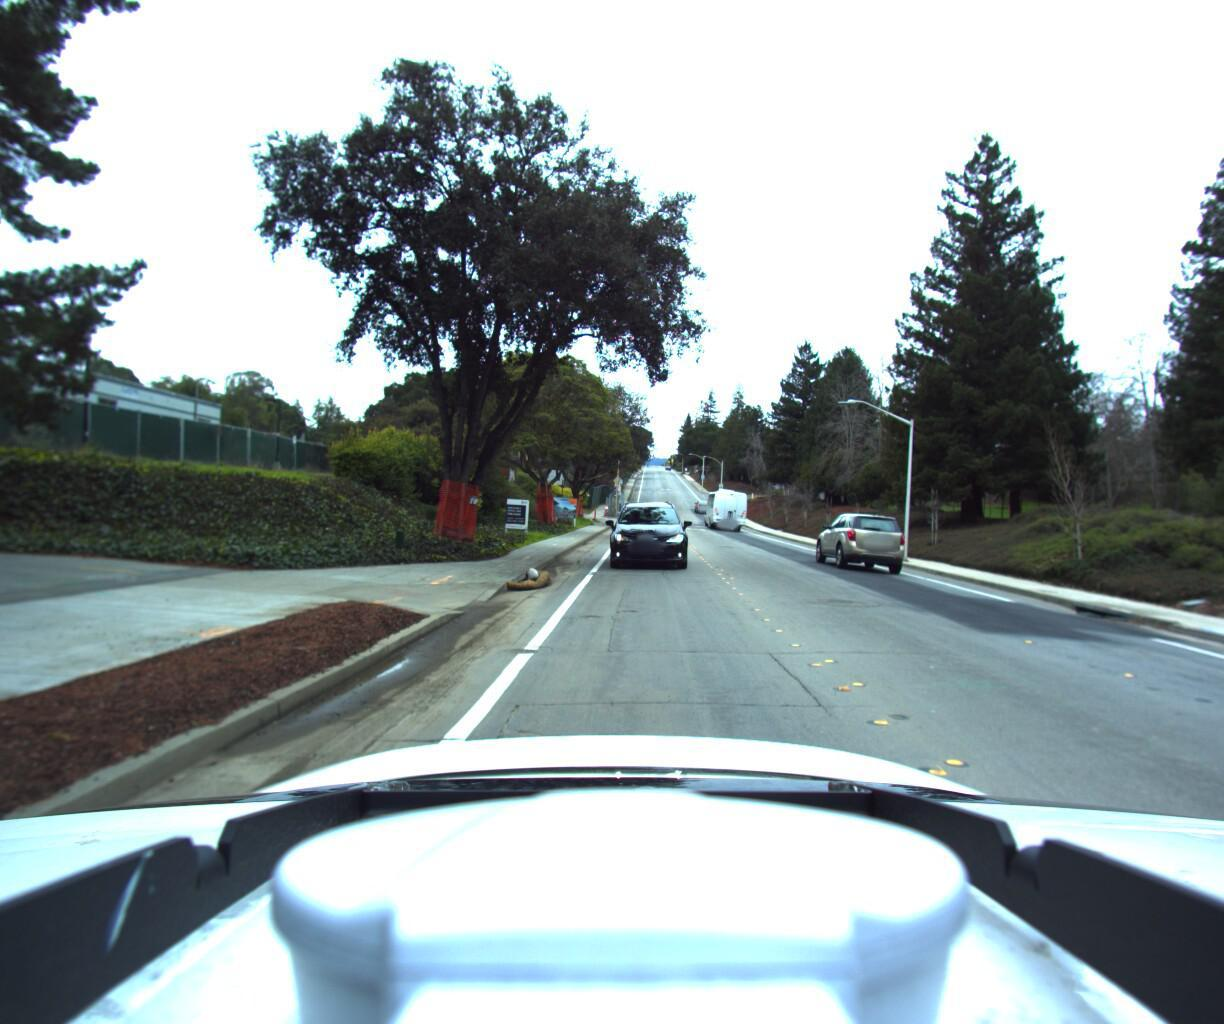bus: (701, 486, 747, 532)
car: (601, 487, 691, 575), (800, 508, 896, 577)
